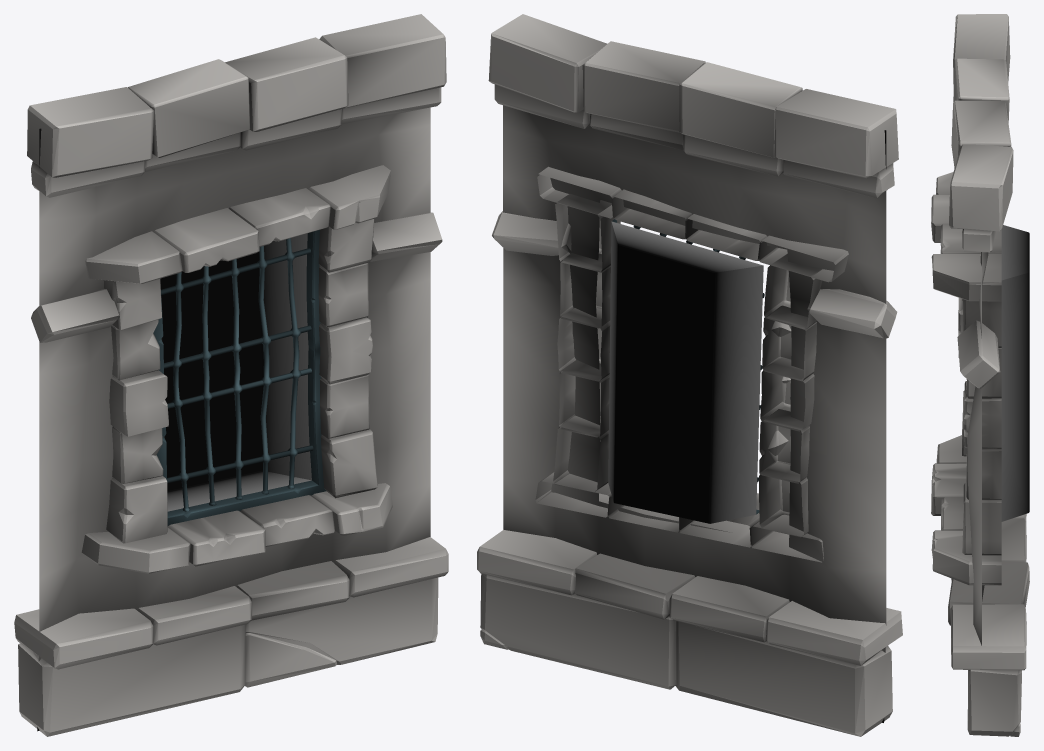
Rendered from wall_window_B.FBX.
3 renders of one model, left to right at view 1: azimuth 30°, elevation 25°; view 2: azimuth 150°, elevation 25°; view 3: azimuth 270°, elevation 25°, orthographic. The views are drawn at different scales.
Visible parts, largest first — view 1: wall_window_B; view 2: wall_window_B; view 3: wall_window_B.
Boxes of the visible parts, bbox=[...] form: wall_window_B: bbox=[14, 14, 448, 736]; wall_window_B: bbox=[477, 14, 902, 736]; wall_window_B: bbox=[931, 14, 1029, 736].
Size of the model in its own units: 4.06 by 6.04 by 0.9736.
